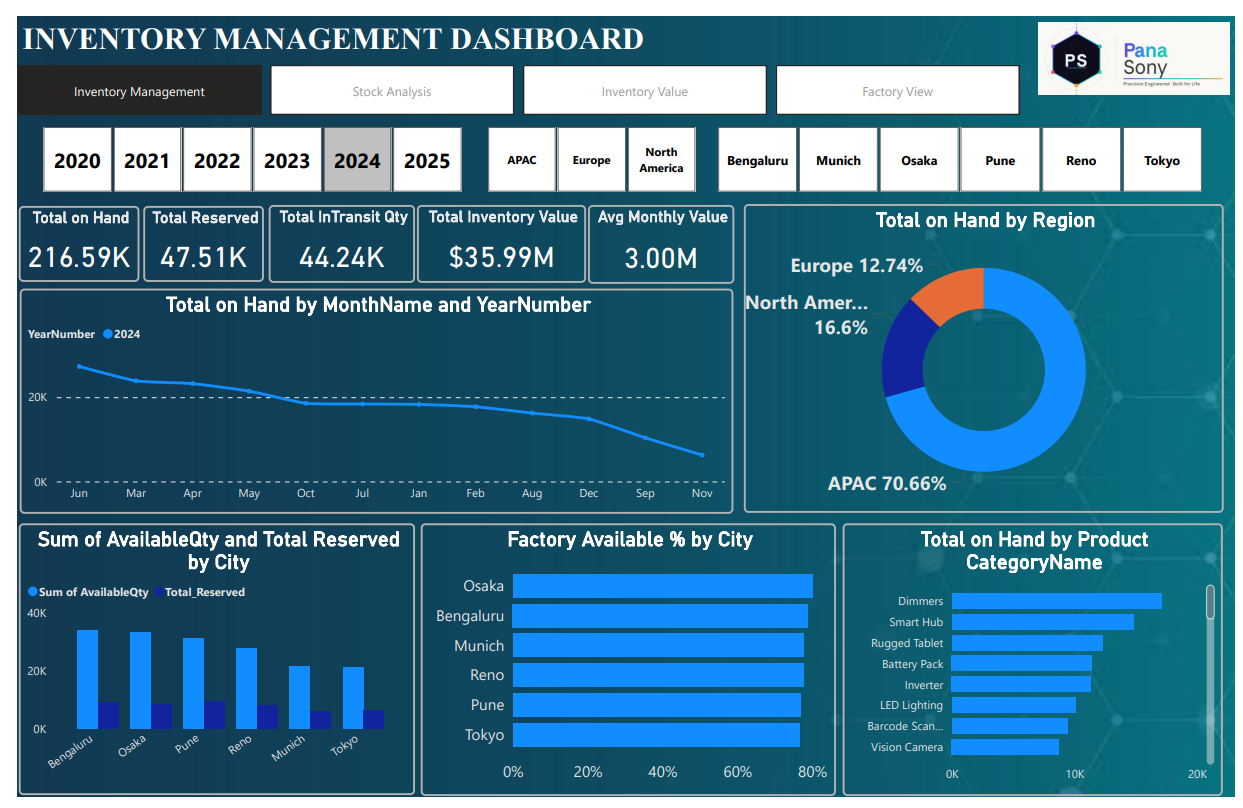

The dashboard page shown, as its layout file describes it:
{"tool":"powerbi","page":{"name":"Inventory Management","canvas":[1280,820],"ordinal":0},"visuals":[{"type":"textbox","box":[0,0,696.7,51.4],"z":0},{"type":"image","box":[1068.6,0,211.7,88.2],"z":1000},{"type":"pageNavigator","box":[0,50.7,1056.7,52.2],"z":2000},{"type":"slicer","fields":{"Values":["InventoryAnalytics.YearNumber"]},"box":[1.4,108.6,490,82.9],"z":3000},{"type":"slicer","fields":{"Values":["InventoryAnalytics.Region"]},"box":[468.6,108.6,268.6,82.9],"z":4000},{"type":"slicer","fields":{"Values":["InventoryAnalytics.City"]},"box":[711.4,108.6,558.6,82.9],"z":5000},{"type":"card","title":"Total on Hand","fields":{"Values":["InventoryAnalytics.Total_on_Hand"]},"box":[1.4,198.6,126.1,80.4],"z":6000},{"type":"card","title":"Total Reserved","fields":{"Values":["InventoryAnalytics.Total_Reserved"]},"box":[131.8,198.6,127.1,80.7],"z":7000},{"type":"card","title":"Total InTransit Qty","fields":{"Values":["InventoryAnalytics.Total_Intransi_Qty"]},"box":[263.6,197.9,154.3,82.1],"z":8000},{"type":"card","title":"Total Inventory Value","fields":{"Values":["InventoryAnalytics.Total_Inventory_Value"]},"box":[420,197.5,177.5,82.9],"z":9000},{"type":"card","title":"Avg Monthly Value","fields":{"Values":["InventoryAnalytics.Avg_Monthly_Value"]},"box":[600,197.9,153.6,82.9],"z":10000},{"type":"lineChart","title":"Total on Hand by MonthName and YearNumber","fields":{"Y":["InventoryAnalytics.Total_on_Hand"],"Category":["InventoryAnalytics.MonthName"],"Series":["InventoryAnalytics.YearNumber"]},"box":[1.5,286.4,751.5,236.4],"z":11000},{"type":"donutChart","title":"Total on Hand by Region","fields":{"Category":["InventoryAnalytics.Region"],"Y":["InventoryAnalytics.Total_on_Hand"]},"box":[764.2,197,504.5,325.4],"z":12000},{"type":"clusteredColumnChart","title":"Sum of AvailableQty and Total Reserved by City","fields":{"Category":["InventoryAnalytics.City"],"Y":["Sum(InventoryAnalytics.AvailableQty)","InventoryAnalytics.Total_Reserved"]},"box":[1.5,532.8,416.4,286.6],"z":13000},{"type":"clusteredBarChart","title":"Factory Available % by City","fields":{"Category":["InventoryAnalytics.City"],"Y":["InventoryAnalytics.Factory_Available %"]},"box":[424.2,533.3,436.4,286.4],"z":14000},{"type":"clusteredBarChart","title":"Total on Hand by Product CategoryName","fields":{"Category":["InventoryAnalytics.ProductCategoryName"],"Y":["InventoryAnalytics.Total_on_Hand"]},"box":[868.2,533.3,400,286.4],"z":15000}]}

Visuals, with their boxes in screenshot pixels (x1, y1, x2, y2), scaled from the page's 1280x820 canvas onto the 1243x808 screenshot:
textbox: {"left": 0, "top": 0, "right": 677, "bottom": 51}
image: {"left": 1038, "top": 0, "right": 1242, "bottom": 87}
pageNavigator: {"left": 0, "top": 50, "right": 1026, "bottom": 101}
slicer - InventoryAnalytics.YearNumber: {"left": 1, "top": 107, "right": 477, "bottom": 189}
slicer - InventoryAnalytics.Region: {"left": 455, "top": 107, "right": 716, "bottom": 189}
slicer - InventoryAnalytics.City: {"left": 691, "top": 107, "right": 1233, "bottom": 189}
"Total on Hand" card: {"left": 1, "top": 196, "right": 124, "bottom": 275}
"Total Reserved" card: {"left": 128, "top": 196, "right": 251, "bottom": 275}
"Total InTransit Qty" card: {"left": 256, "top": 195, "right": 406, "bottom": 276}
"Total Inventory Value" card: {"left": 408, "top": 195, "right": 580, "bottom": 276}
"Avg Monthly Value" card: {"left": 583, "top": 195, "right": 732, "bottom": 277}
"Total on Hand by MonthName and YearNumber" lineChart: {"left": 1, "top": 282, "right": 731, "bottom": 515}
"Total on Hand by Region" donutChart: {"left": 742, "top": 194, "right": 1232, "bottom": 515}
"Sum of AvailableQty and Total Reserved by City" clusteredColumnChart: {"left": 1, "top": 525, "right": 406, "bottom": 807}
"Factory Available % by City" clusteredBarChart: {"left": 412, "top": 525, "right": 836, "bottom": 807}
"Total on Hand by Product CategoryName" clusteredBarChart: {"left": 843, "top": 525, "right": 1232, "bottom": 807}
